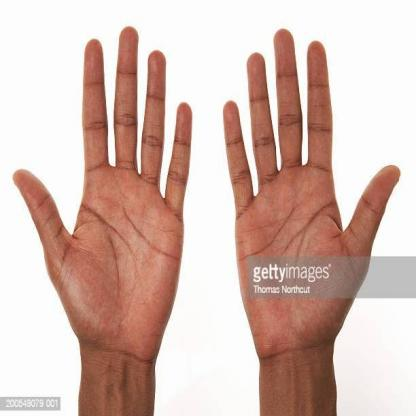palm: (14, 18, 202, 372), (219, 14, 403, 372)
